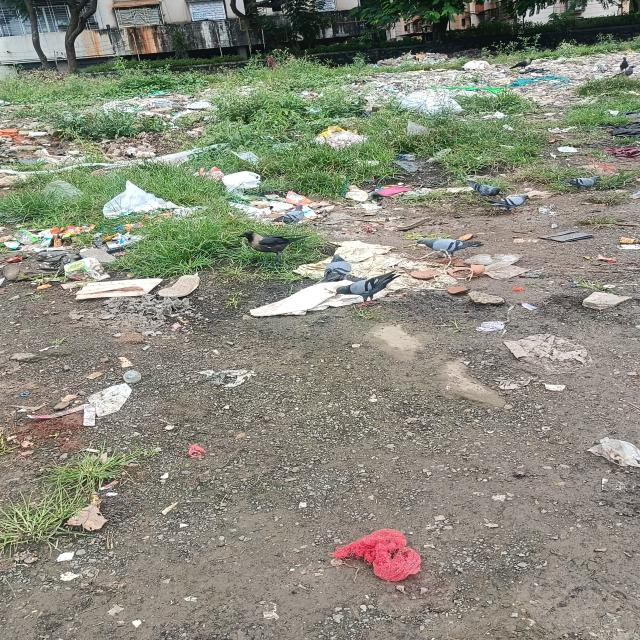garbage: (19, 158, 367, 299), (388, 88, 534, 138), (103, 97, 238, 137)
